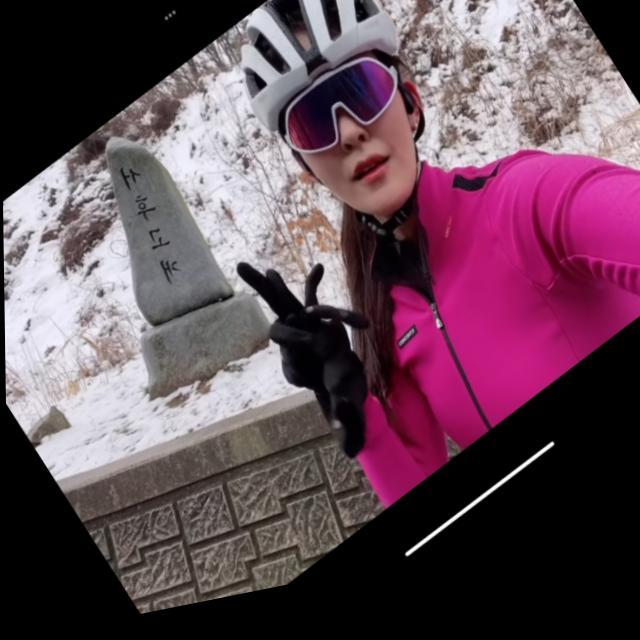Helmet: (232, 0, 430, 228)
